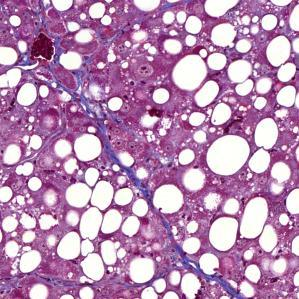fibrosis: (67, 77, 116, 131)
